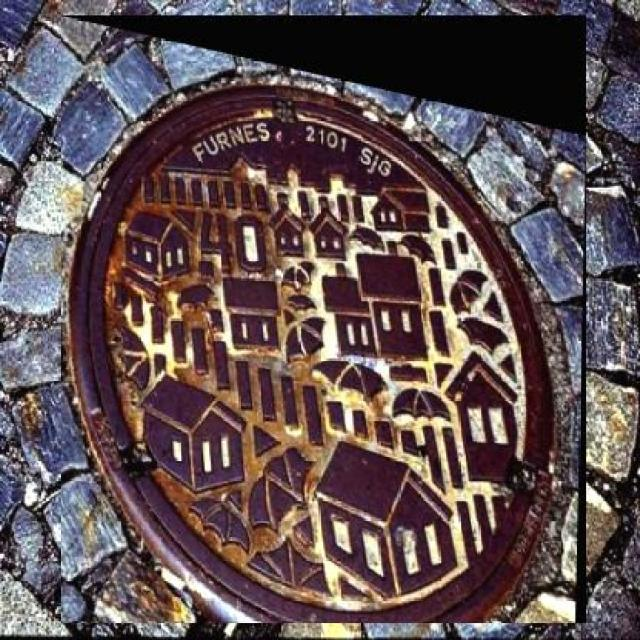Manhole: (60, 15, 586, 623)
